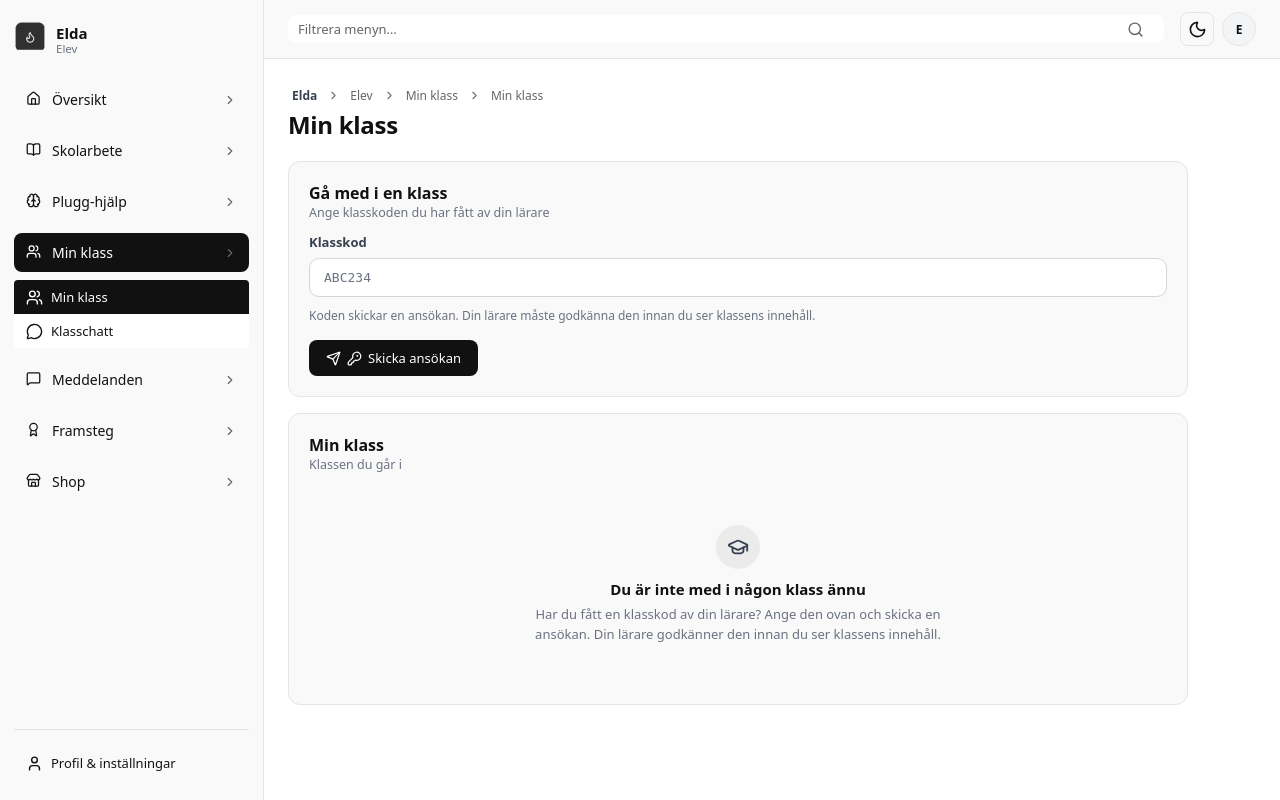
Test: klassansökan med klasskod › skickar ansökan och berättar att läraren måste godkänna
Step 1. Type "abc234" into the field labelled "Klasskod" → (738, 278), box [309, 258, 1167, 297]
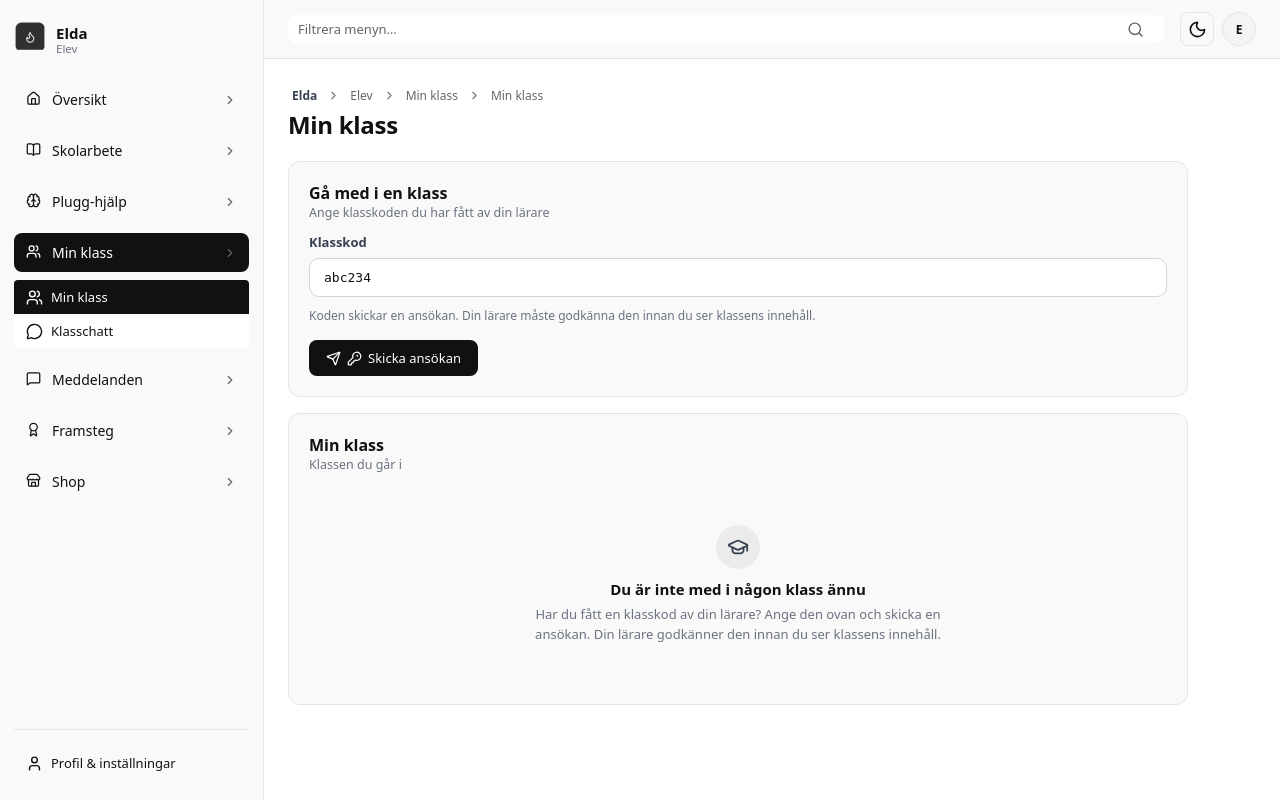
Step 2. Click the button "Skicka ansökan" → click(394, 358), box [309, 340, 478, 376]
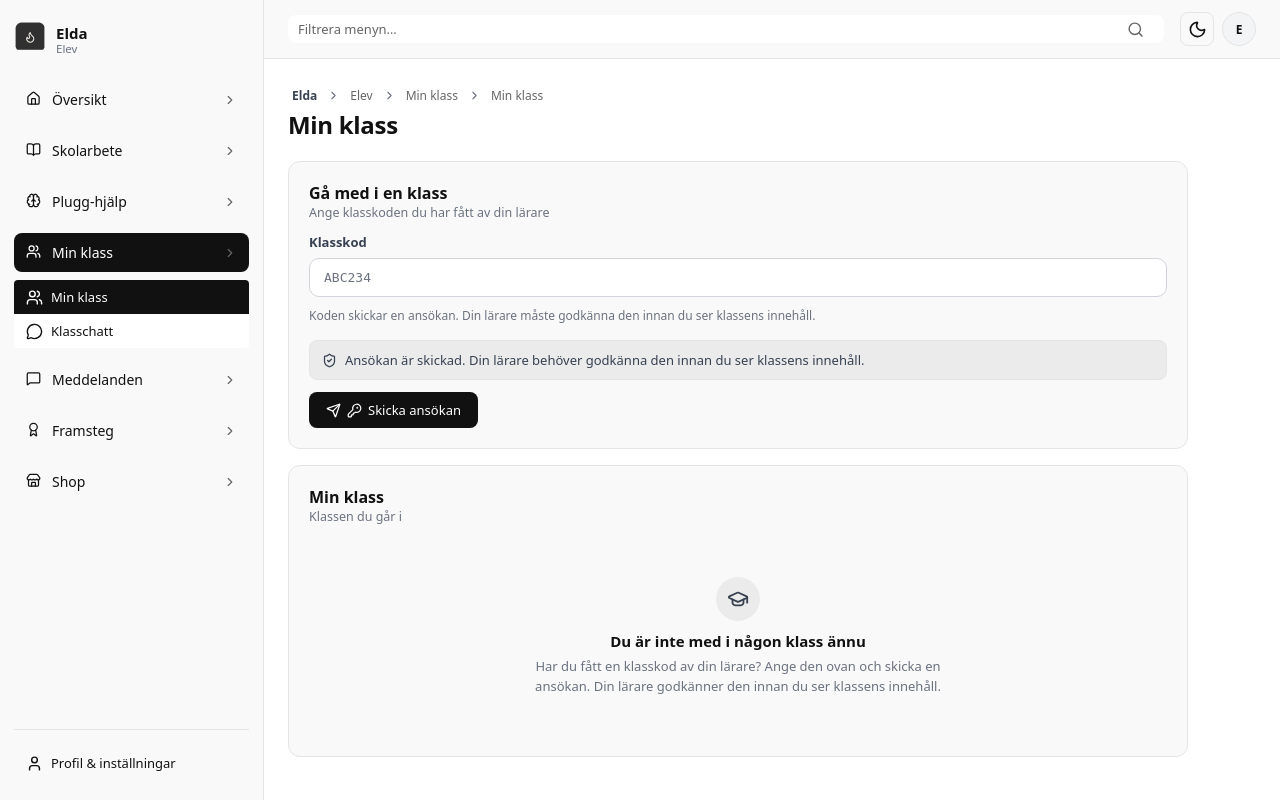
expect the message with test id "class-code-message" is shown: met, box [309, 340, 1167, 380]
expect the text "lärare behöver godkänna" is shown: met, box [345, 351, 864, 369]
